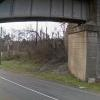Bridge: (2, 1, 91, 54)
